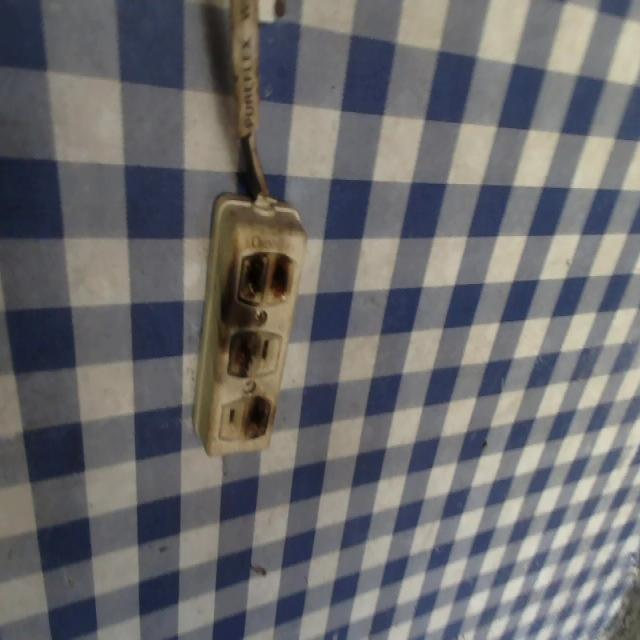-: (233, 247, 291, 304), (225, 323, 258, 377), (245, 390, 270, 442)
